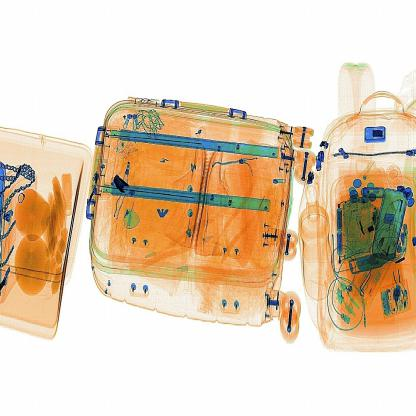pliers: (105, 167, 136, 206)
